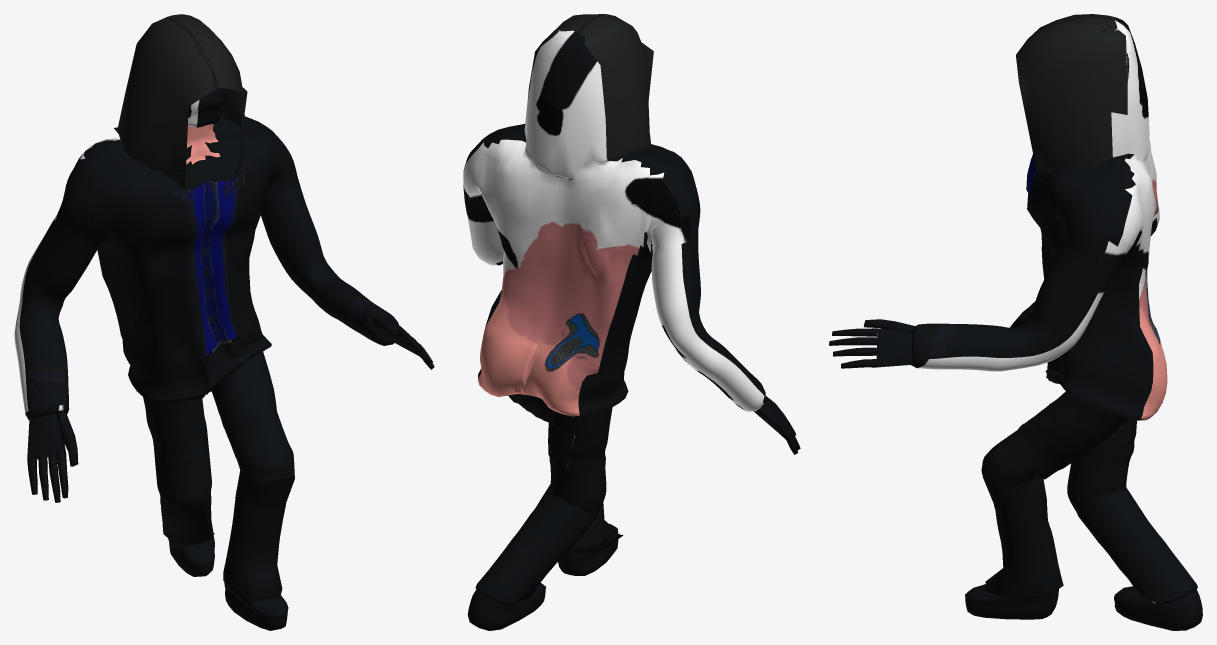
The model's file is keyFrame05.obj.
The picture shows the model from 3 angles, left to right: view 1: azimuth 30°, elevation 25°; view 2: azimuth 150°, elevation 25°; view 3: azimuth 270°, elevation 25°; orthographic projection.
Visible parts, largest first — view 1: pasted__polySurface71 group4; view 2: pasted__polySurface71 group4; view 3: pasted__polySurface71 group4.
Boxes of the visible parts, left/top/right/bottom form: pasted__polySurface71 group4: left=14, top=14, right=434, bottom=630; pasted__polySurface71 group4: left=463, top=14, right=800, bottom=630; pasted__polySurface71 group4: left=829, top=14, right=1202, bottom=630.
Size of the model in its own units: 6.96 by 12.32 by 7.16.
Materials: 1 (1 with a texture image).
